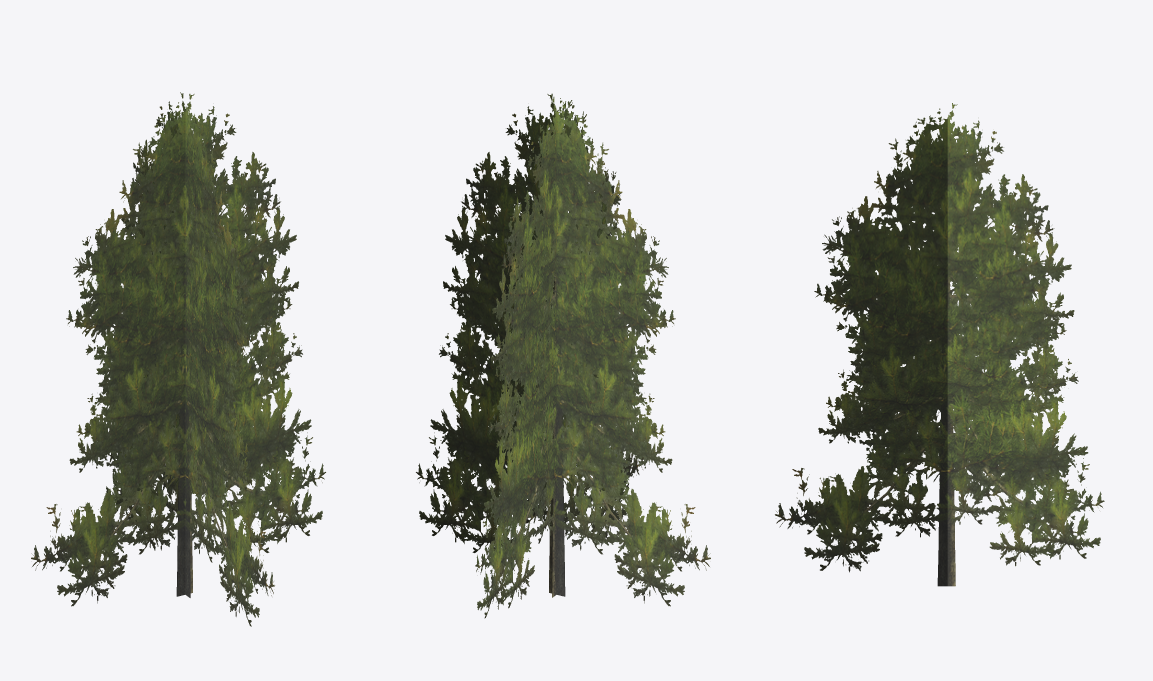
Rendered from Australian_Pine_Fan_0.obj.
3 renders of one model, left to right at view 1: azimuth 30°, elevation 25°; view 2: azimuth 150°, elevation 25°; view 3: azimuth 270°, elevation 25°, orthographic. The views are drawn at different scales.
Parts seen in each view (by area): view 1: CreateFan; view 2: CreateFan; view 3: CreateFan.
Part boxes in pixels (bbox=[...]): CreateFan: bbox=[31, 92, 325, 626]; CreateFan: bbox=[416, 93, 710, 618]; CreateFan: bbox=[775, 103, 1104, 586].
Size of the model in its own units: 10.59 by 15 by 10.59.
Materials: 1 (1 with a texture image).
